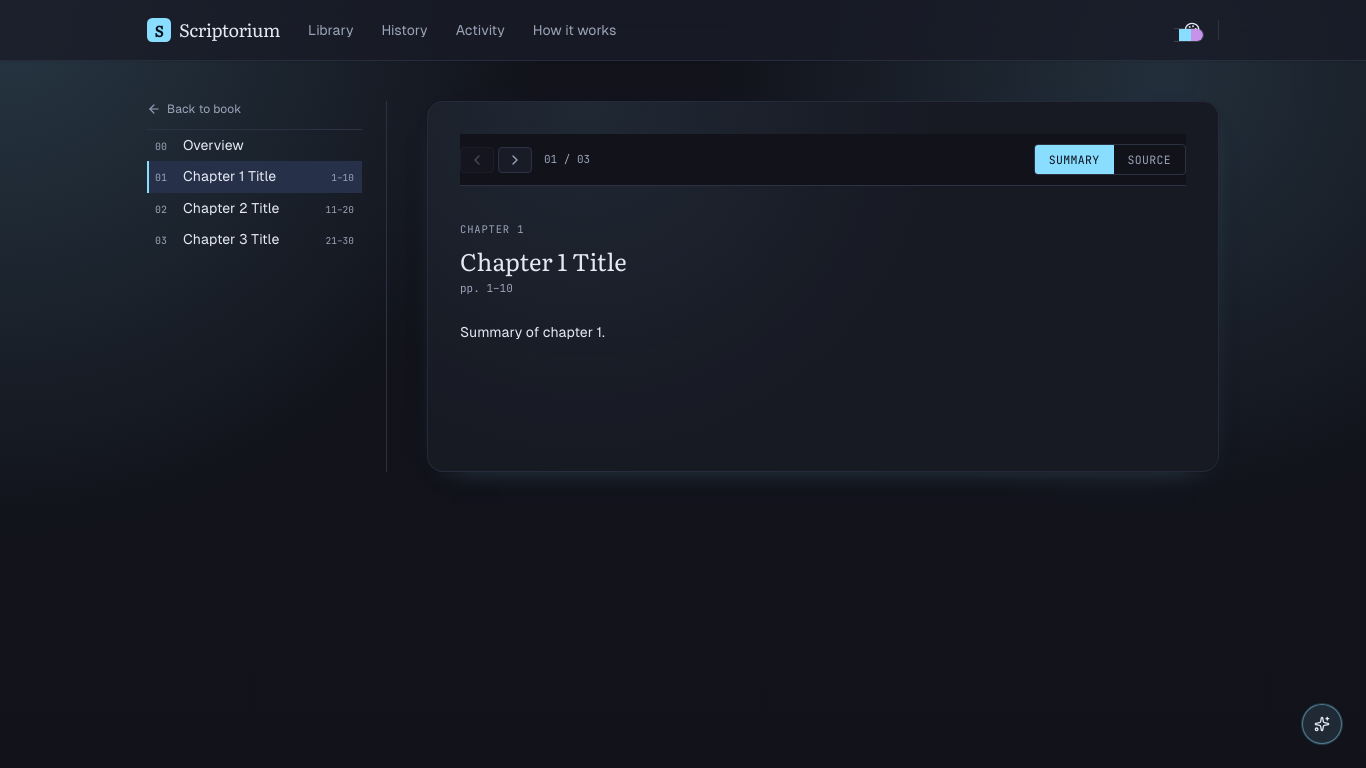
prev/next and the arrow keys walk chapters with no wrap
Expected: the heading "Chapter 1 Title" is shown, x1=460 y1=243 x2=627 y2=278
What coordinates should you click on to do the following:
click the button named "Next chapter"
I would click on:
 (515, 160)
Its box is x1=498 y1=147 x2=532 y2=173.
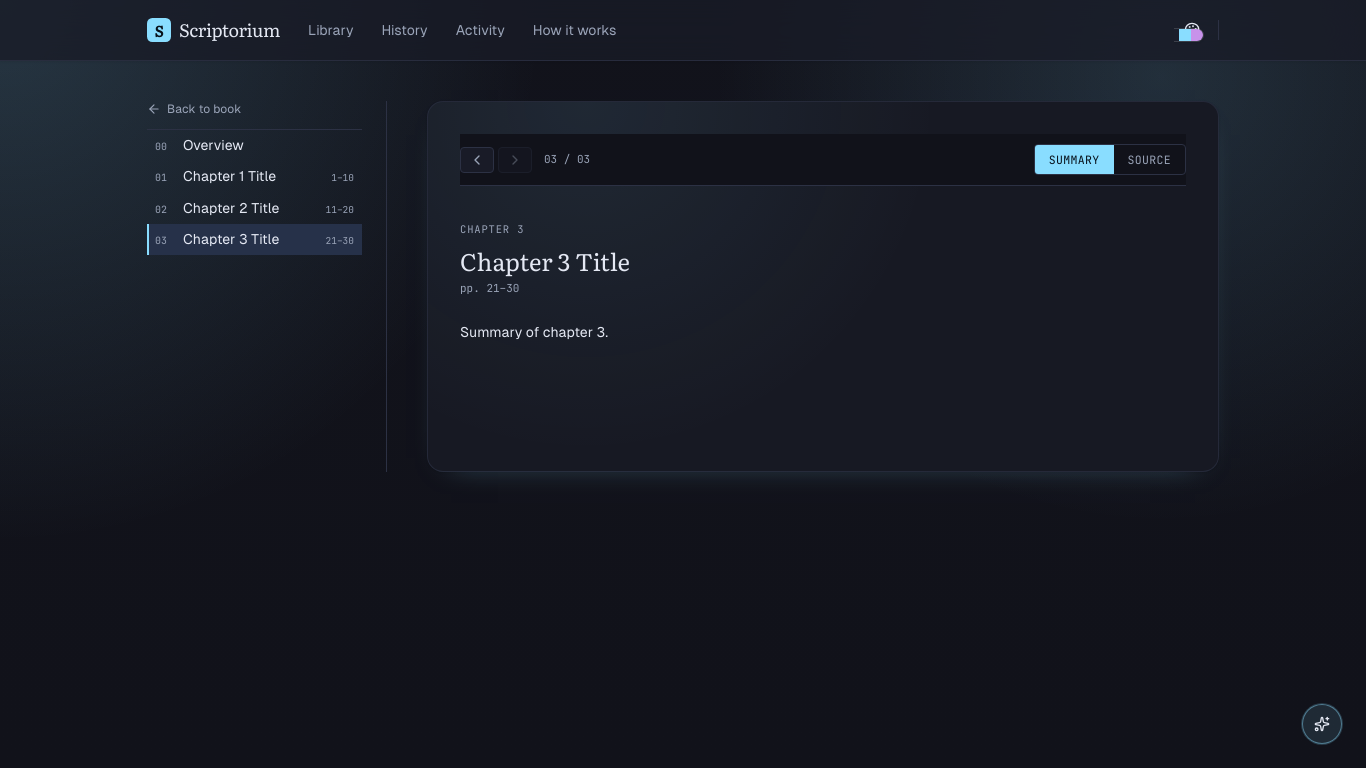
Now the button named "Next chapter" is disabled, box x1=498 y1=147 x2=532 y2=173
